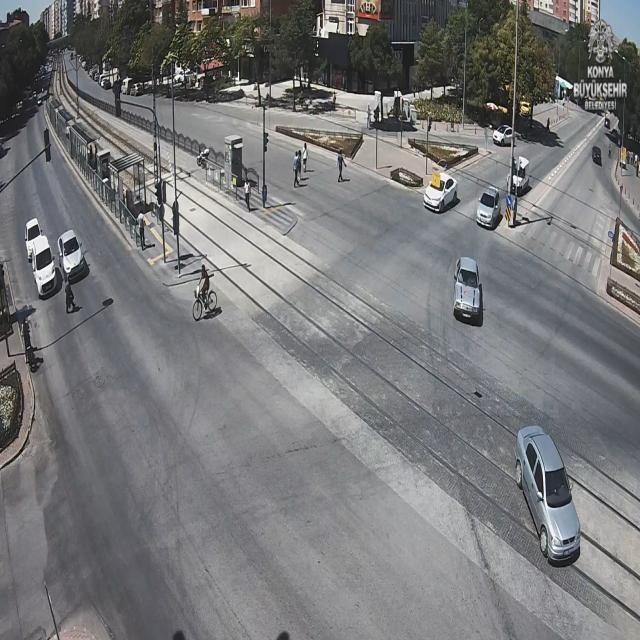Car: (504, 401, 601, 583), (444, 253, 489, 325), (422, 168, 460, 219), (57, 228, 93, 280), (29, 249, 62, 297), (19, 218, 53, 252), (476, 185, 501, 231), (506, 154, 531, 193), (491, 122, 518, 148)
Cycle: (186, 261, 220, 323)
